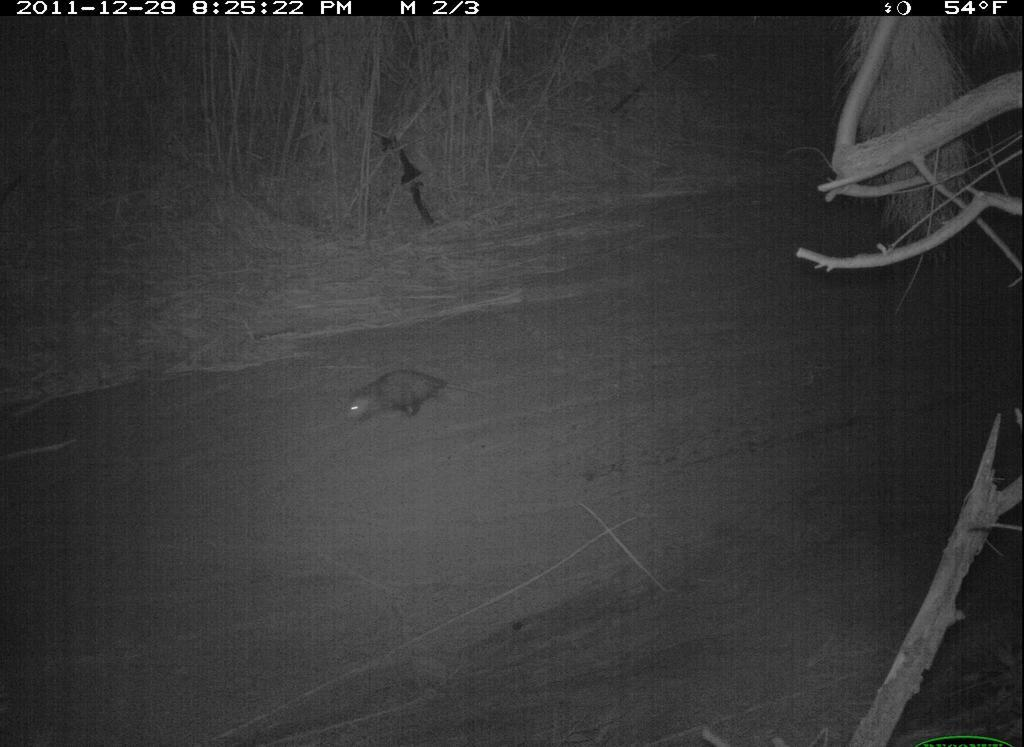opossum: (329, 363, 468, 436)
